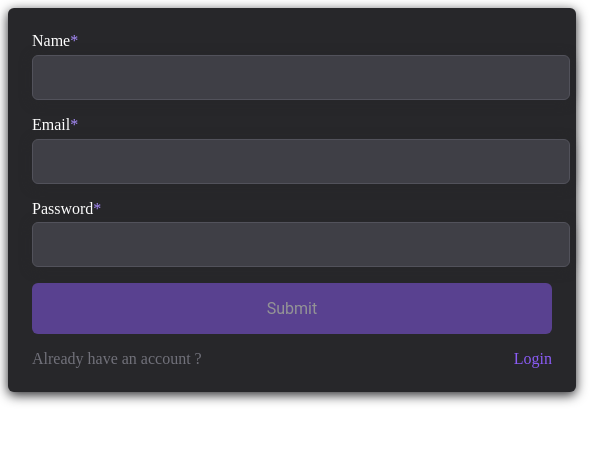
Test: components/register-form › with invalid inputs › should keep the button disabled
Type "gh" into the field labelled "Name" at point(301, 77), box [32, 55, 570, 100]
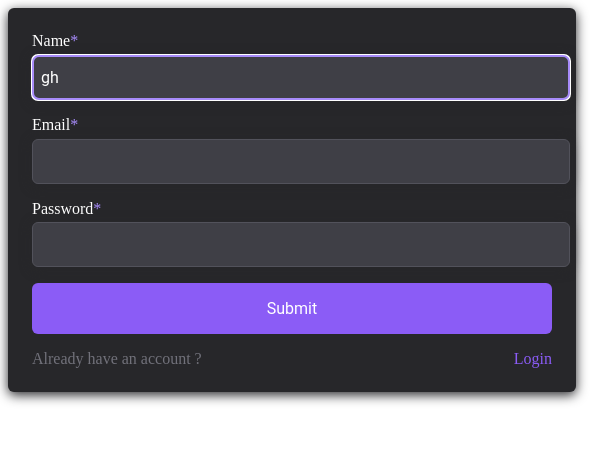
Type "gh" into the field labelled "Email" at point(301, 161), box [32, 139, 570, 184]
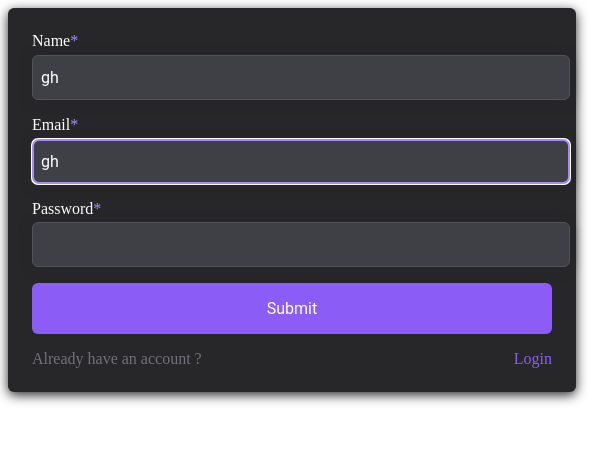
Type "gh" into the password field labelled "Password" at point(301, 245), box [32, 222, 570, 267]
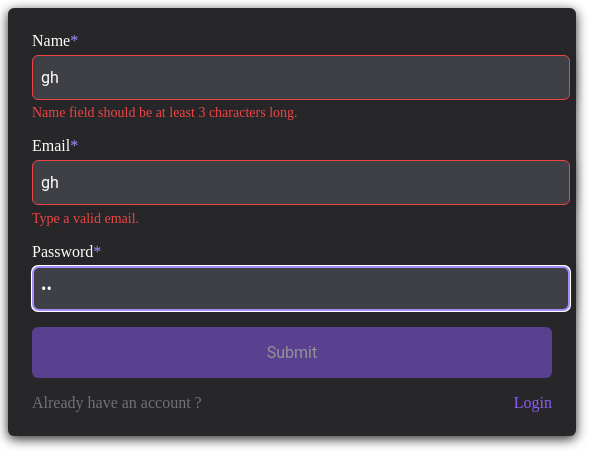
expect the button "Submit" is disabled: met, box [32, 327, 552, 378]
